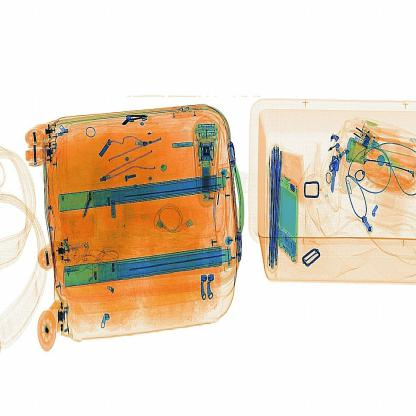pliers: (80, 190, 100, 223)
